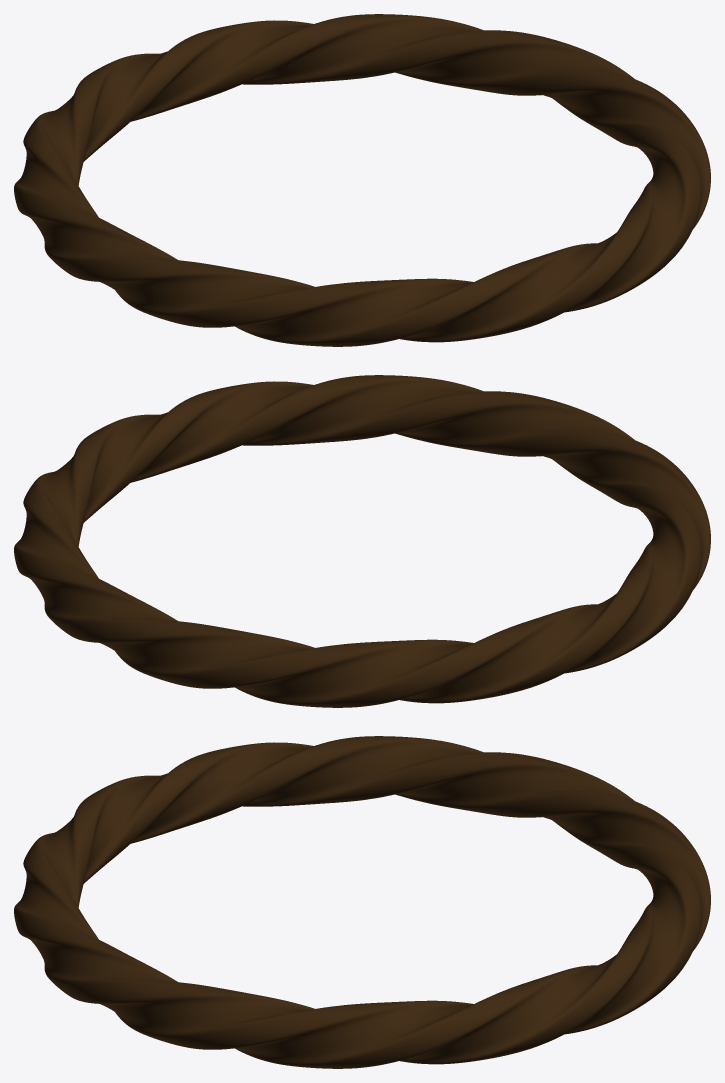
Rendered from CakeFillCreamChoco.glb.
The picture shows the model from 3 angles, top to bottom: view 1: azimuth 30°, elevation 25°; view 2: azimuth 150°, elevation 25°; view 3: azimuth 270°, elevation 25°; orthographic projection.
Visible parts, largest first — view 1: Torus; view 2: Torus; view 3: Torus.
Boxes of the visible parts, bbox=[...] form: Torus: bbox=[14, 14, 710, 346]; Torus: bbox=[14, 375, 710, 707]; Torus: bbox=[14, 736, 710, 1068].
Bounding box in the file's own units: 1.95 × 0.1871 × 1.95.
